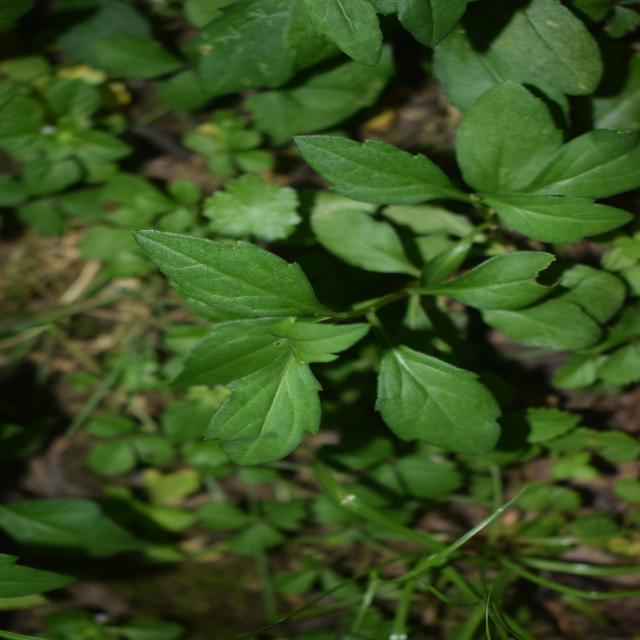Indian aster: (190, 126, 398, 567), (384, 271, 546, 624)
